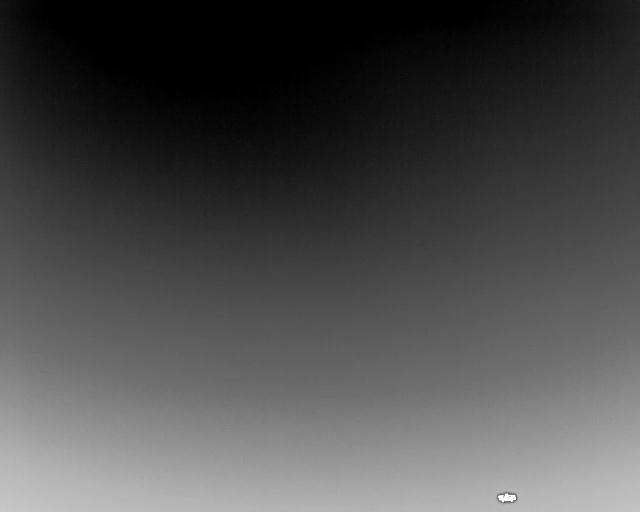fpv-drone: (496, 492, 517, 503)
